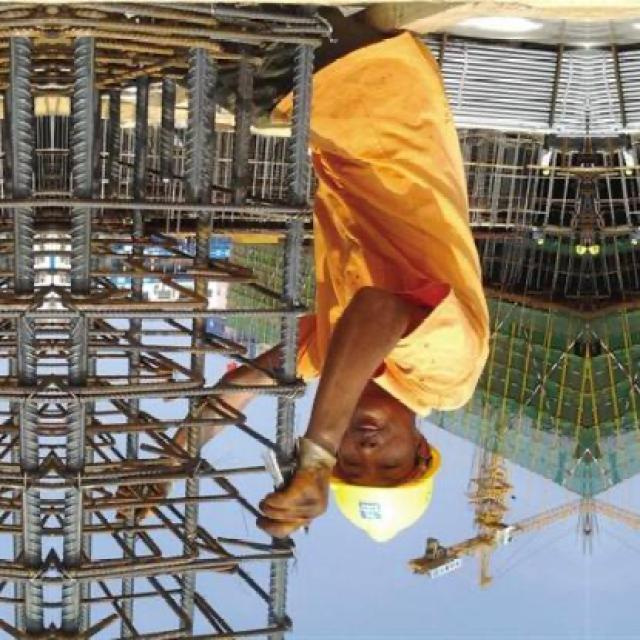safetyhelmet: (328, 402, 441, 550)
